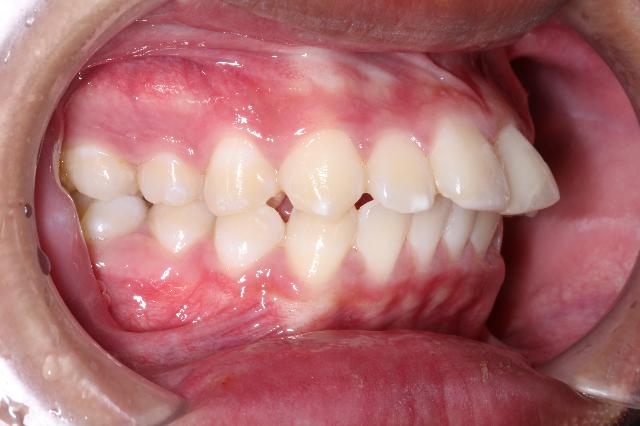canine class II 3/4: (212, 118, 368, 294)
molar class II 1/4: (54, 138, 148, 246)
